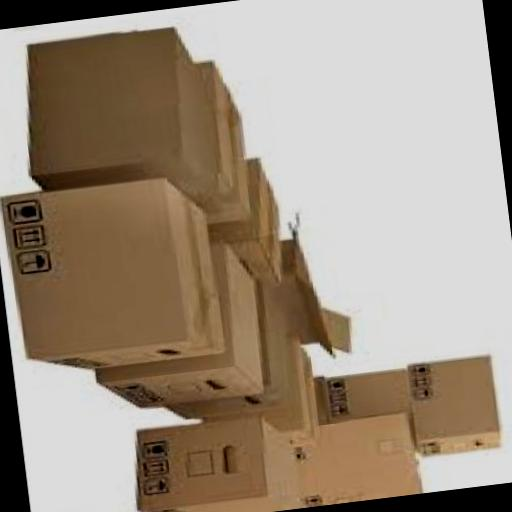cardboard: (2, 173, 227, 381), (12, 24, 216, 216), (82, 242, 268, 414), (159, 414, 422, 512), (154, 286, 296, 424), (127, 414, 302, 512), (161, 60, 259, 228), (199, 340, 324, 464), (270, 213, 357, 365), (202, 157, 288, 292), (407, 355, 506, 460), (310, 368, 414, 440)
